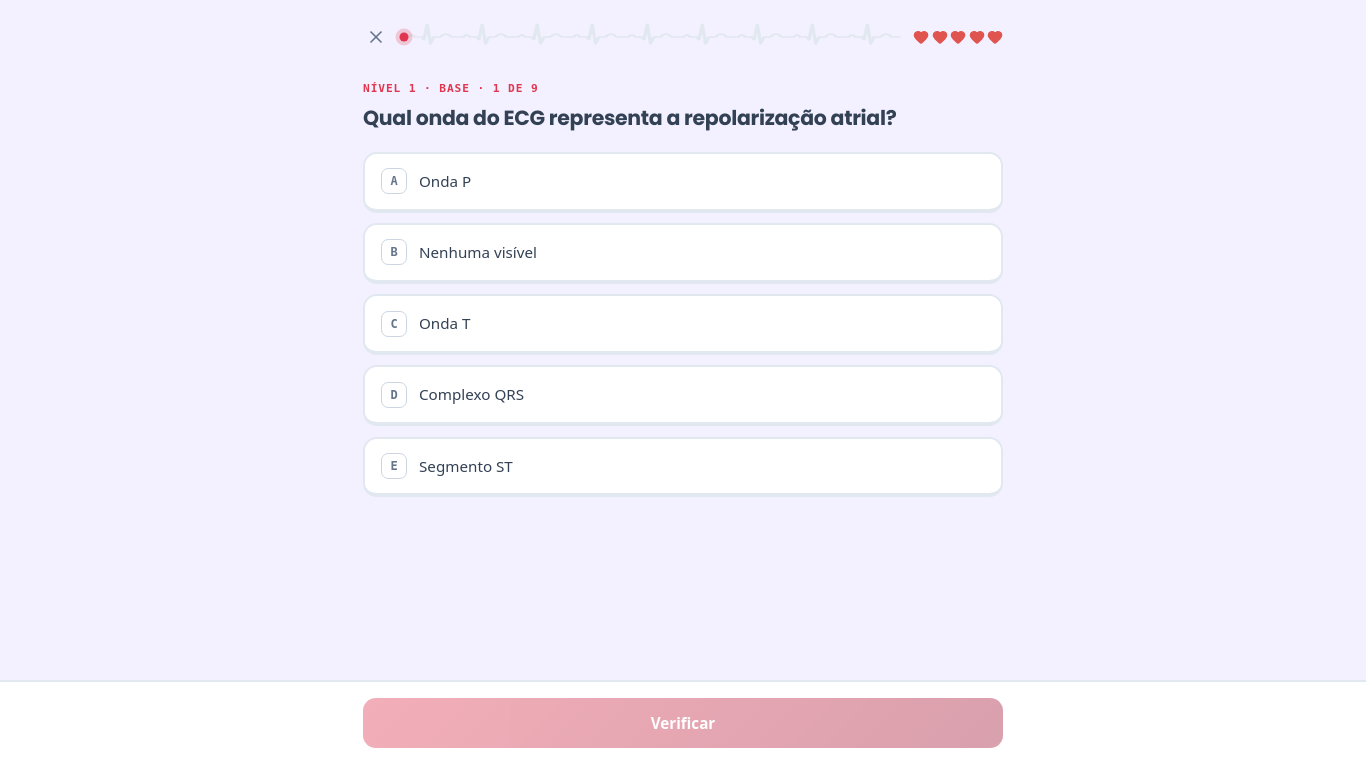
Test: fluxo da lição › mostra o resultado errado e trava a resposta
This screenshot has width=1366, height=768.
Expected: the button "Verificar" is shown, top-left (363, 698), bottom-right (1003, 748)
Click the text "Onda T".
click(445, 324)  # box top-left (419, 312), bottom-right (470, 335)
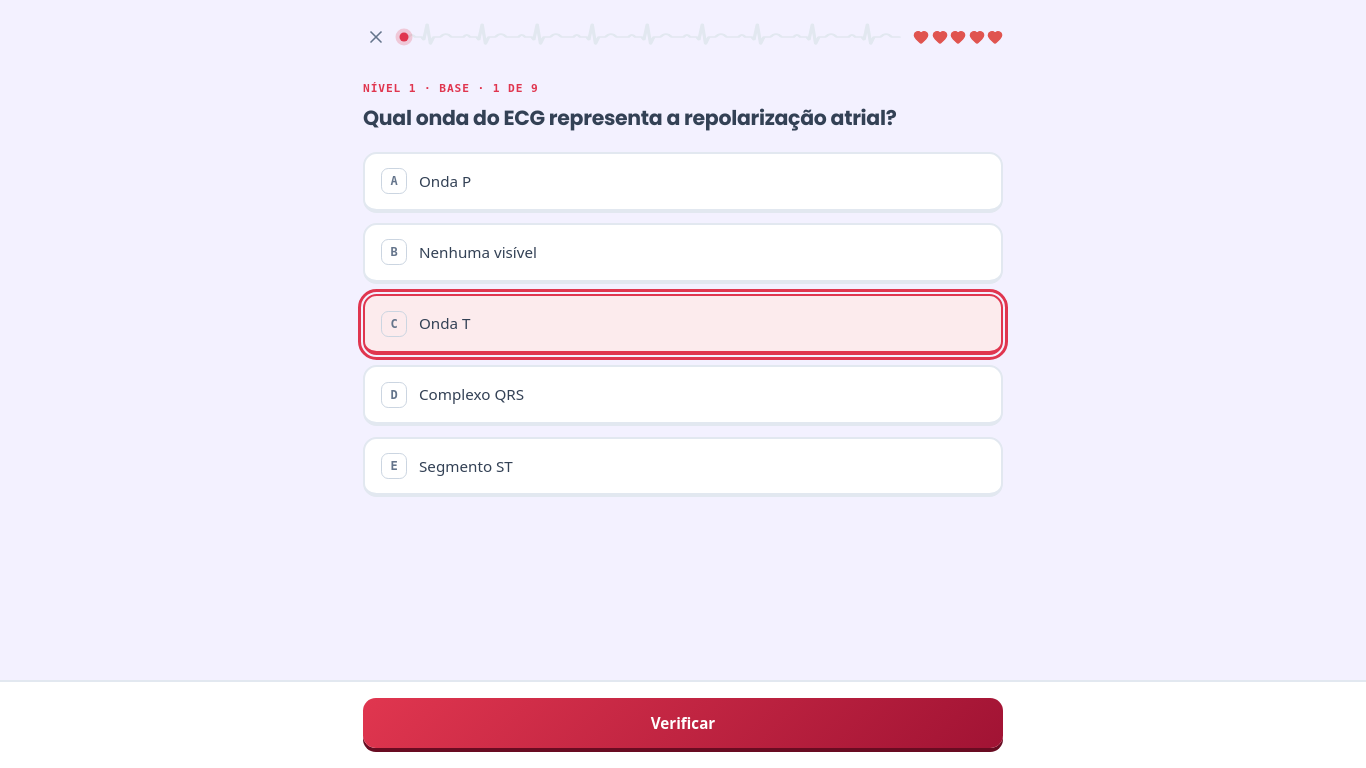
Click the button "Verificar".
click(683, 723)  # box top-left (363, 698), bottom-right (1003, 748)
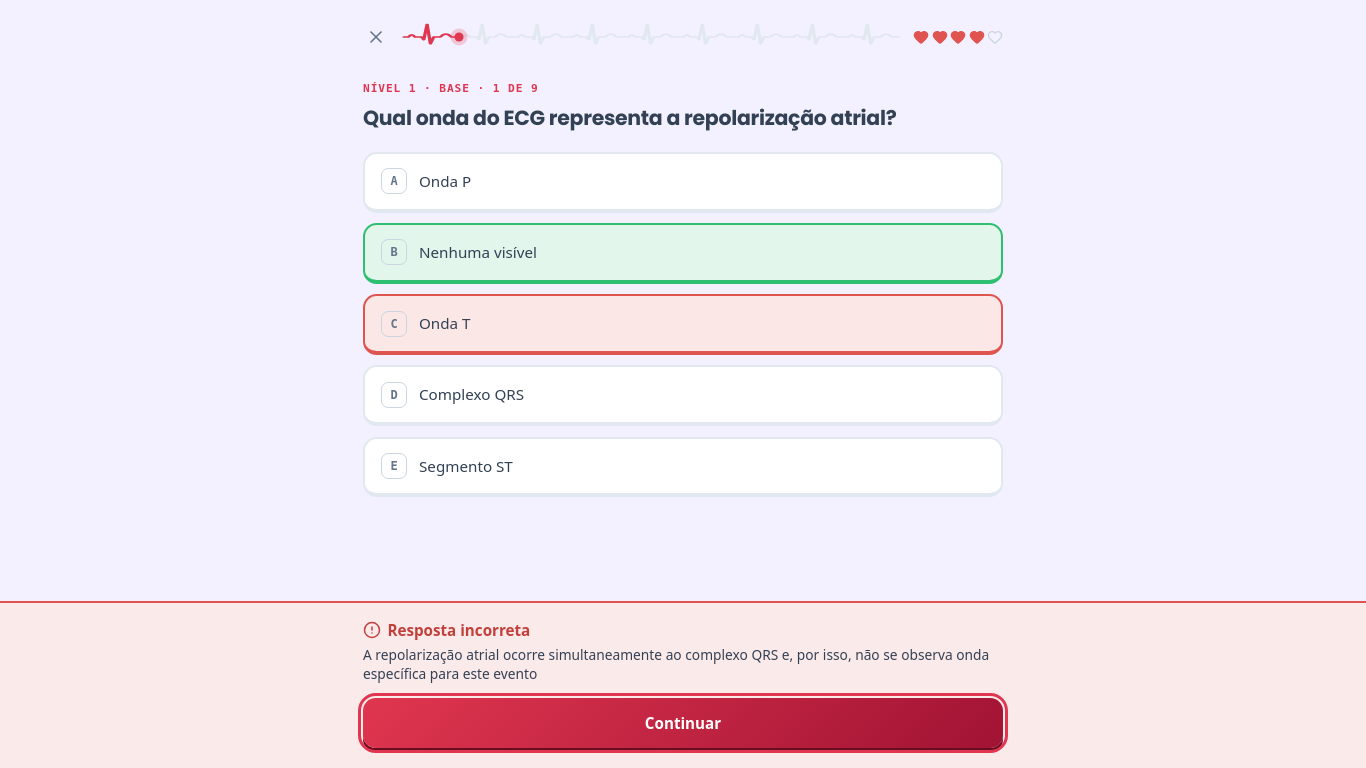
Result: the text "Resposta incorreta" is shown at top-left (387, 618), bottom-right (530, 641)
Result: the button "Verificar" is gone
